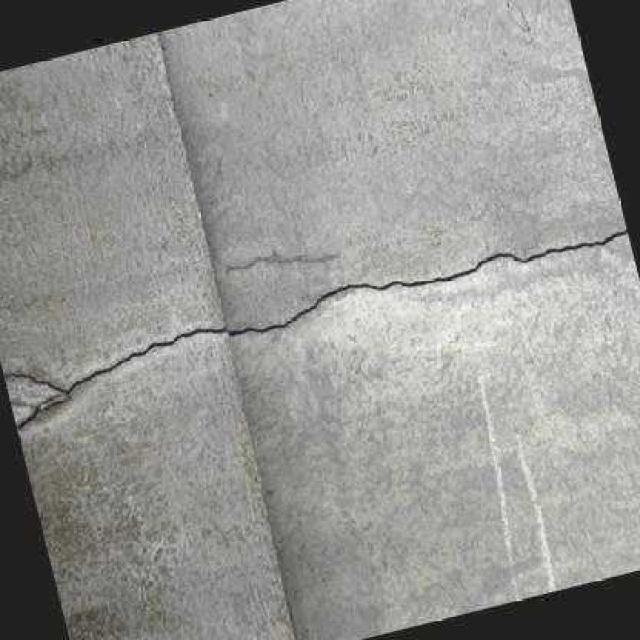D00: (3, 226, 628, 429)
